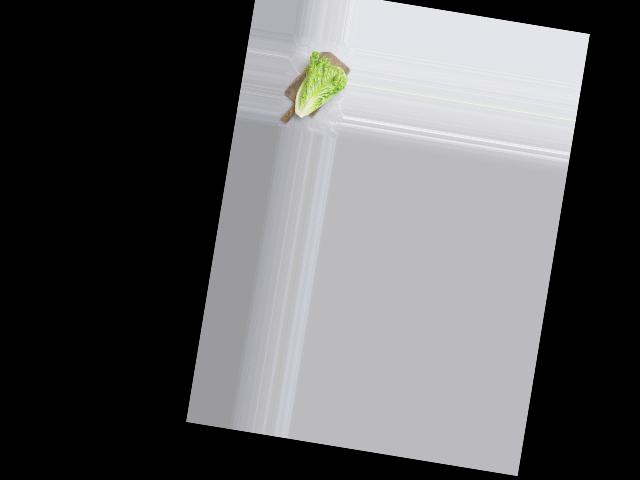lettuce: (285, 48, 350, 126)
